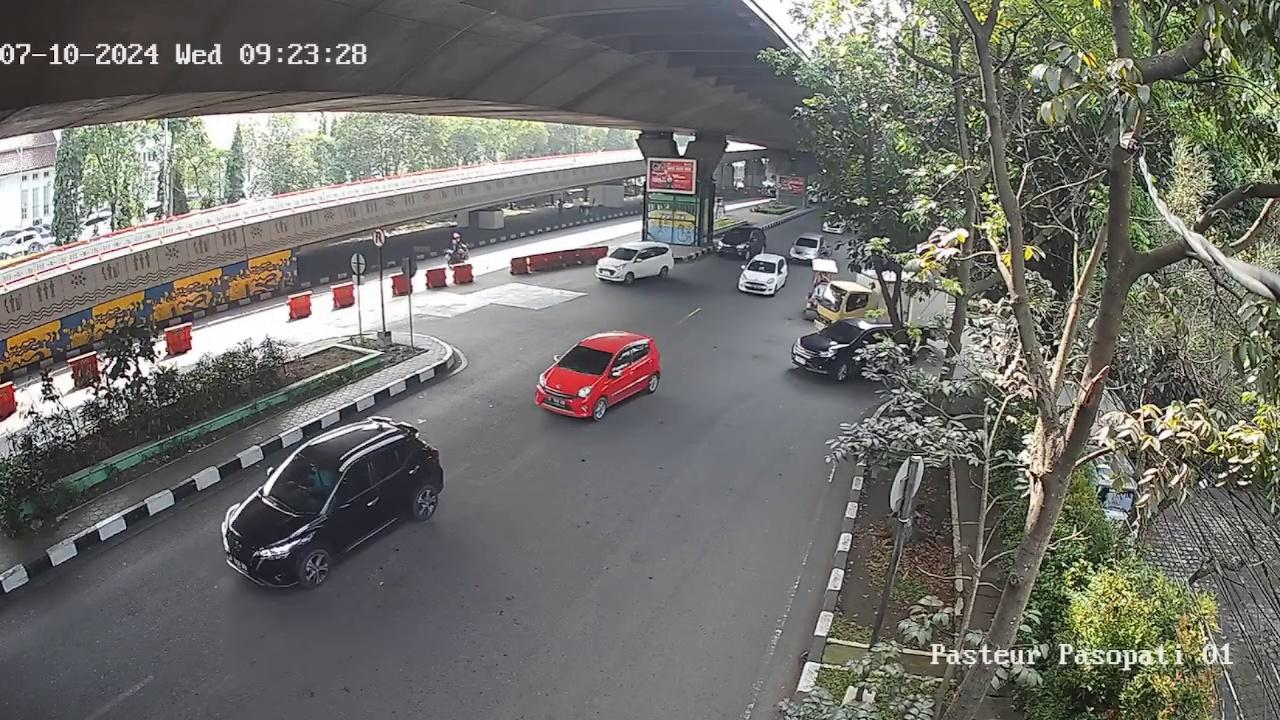pakai: (299, 462, 332, 496)
windshield: (262, 455, 346, 513), (554, 344, 613, 378), (747, 257, 780, 274)
